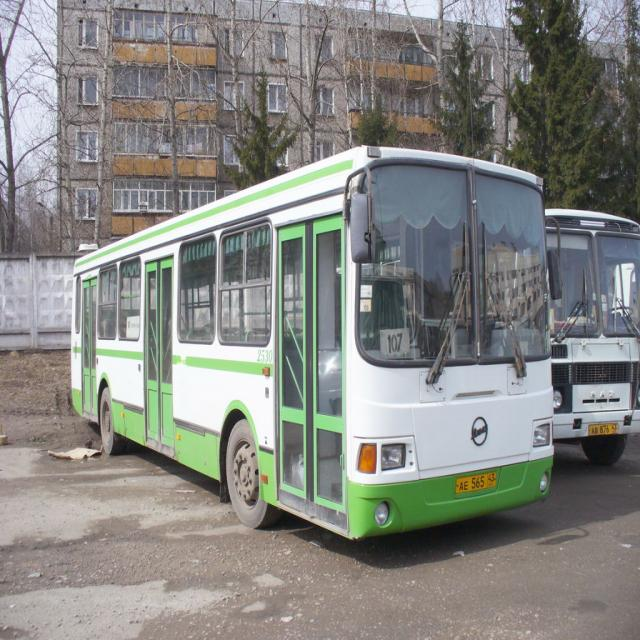number-of-bus: (386, 333, 407, 357)
